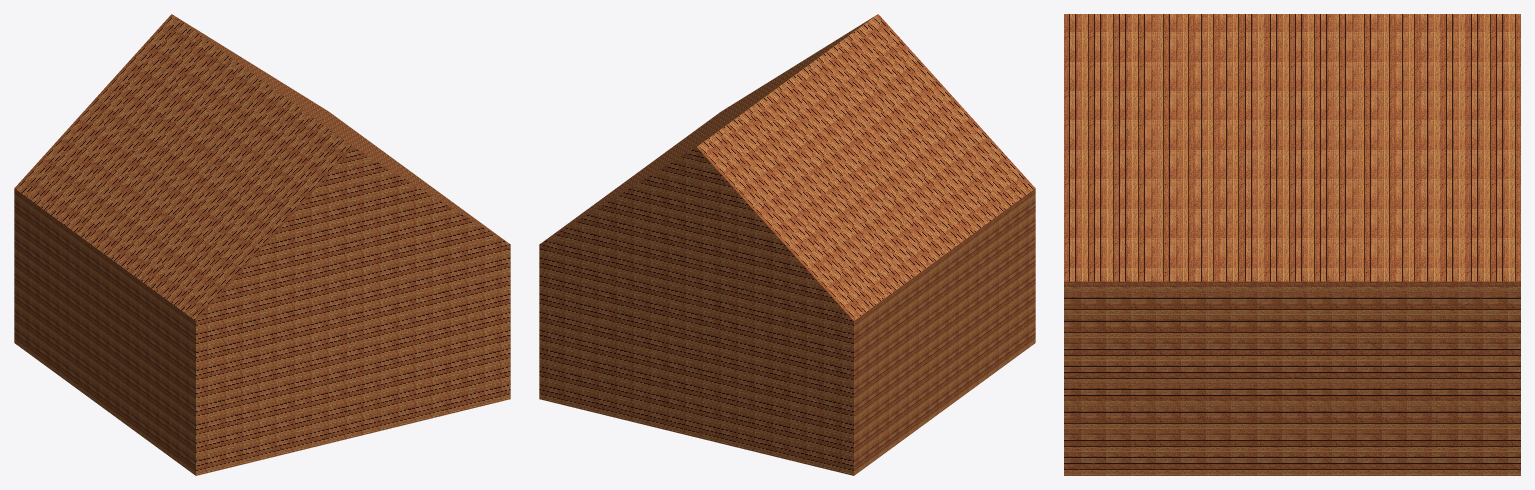
File: TestHouse.glb
The picture shows the model from 3 angles, left to right: view 1: azimuth 30°, elevation 25°; view 2: azimuth 150°, elevation 25°; view 3: azimuth 270°, elevation 25°; orthographic projection. The views are drawn at different scales.
Visible parts, largest first — view 1: Cube.001; view 2: Cube.001; view 3: Cube.001.
Boxes of the visible parts, box(x1,y1,x2,y2) form: Cube.001: box(14, 14, 510, 475); Cube.001: box(539, 14, 1035, 475); Cube.001: box(1064, 14, 1520, 475).
Bounding box in the file's own units: 1.82 × 1.6 × 1.82.
Materials: 1 (1 with a texture image).
